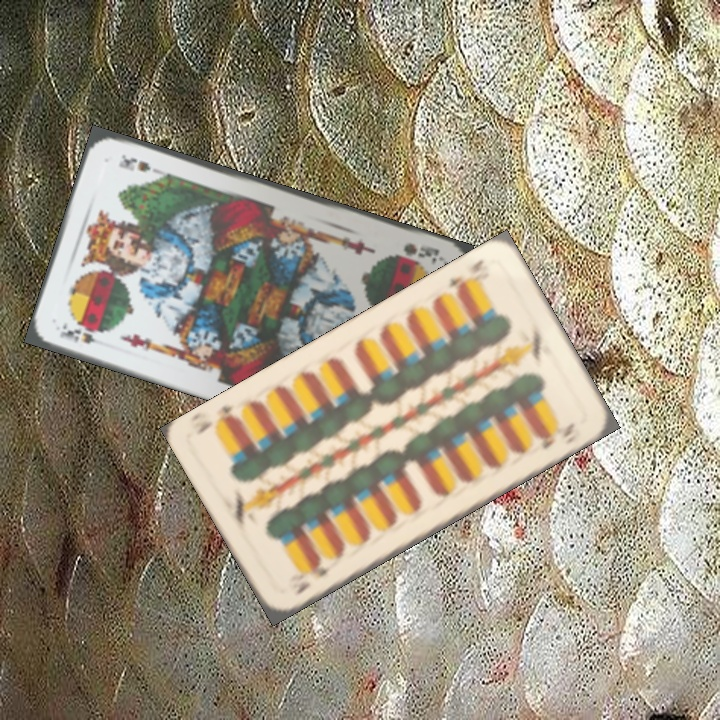E10: (444, 255, 487, 297), (291, 558, 333, 598)
SK: (55, 318, 111, 350), (399, 239, 442, 268)
